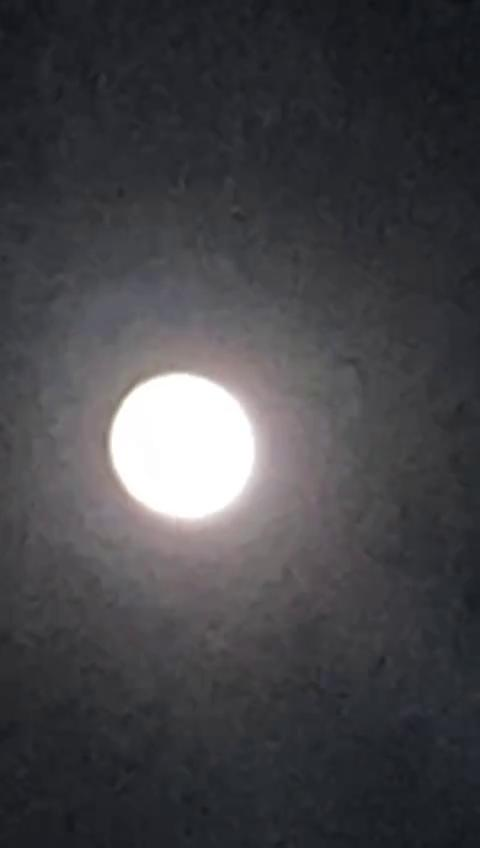moon: (101, 368, 265, 534)
